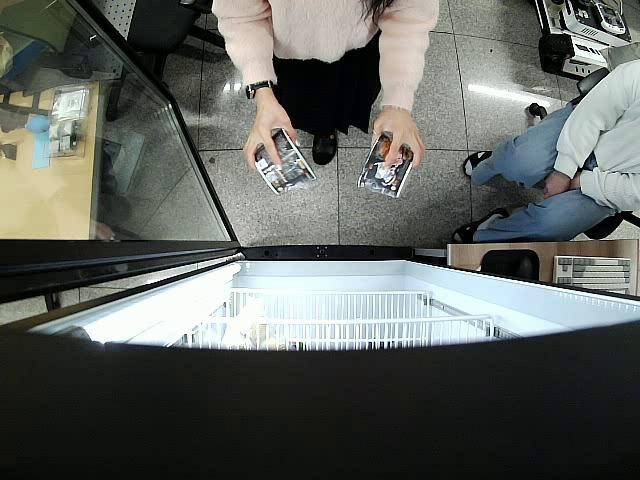07_buldak_L: (352, 132, 417, 202), (255, 129, 318, 195)
